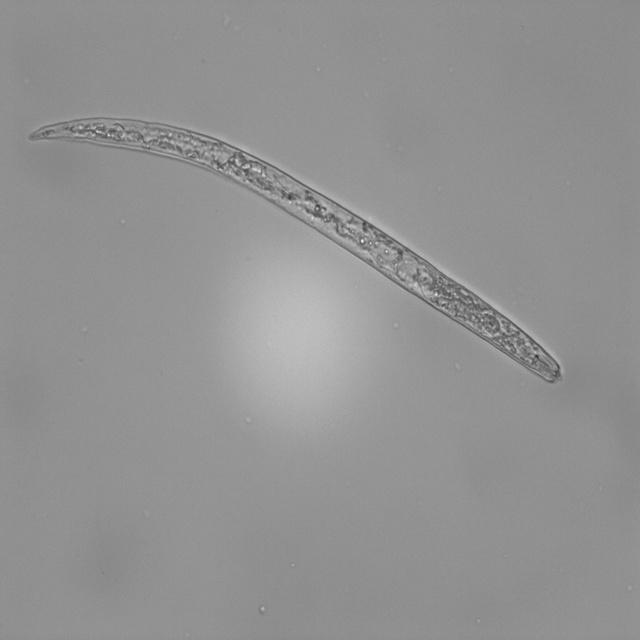Radopholus: (19, 112, 573, 390)
